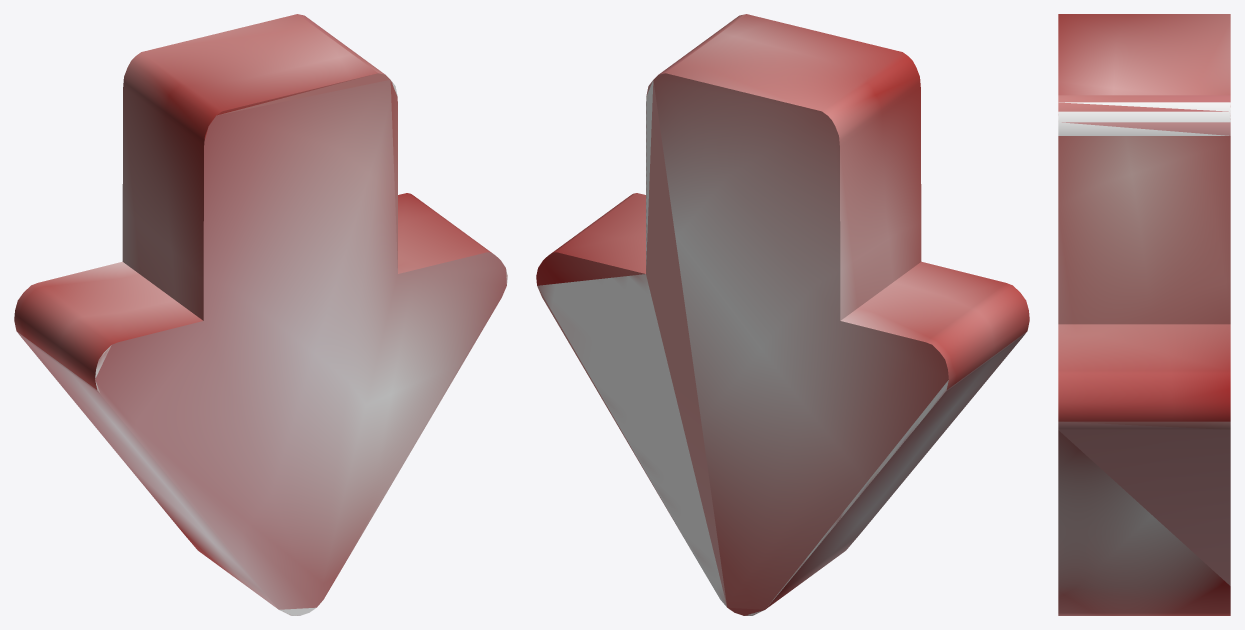
File: Arrow.fbx
3 renders of one model, left to right at view 1: azimuth 30°, elevation 25°; view 2: azimuth 150°, elevation 25°; view 3: azimuth 270°, elevation 25°, orthographic. The views are drawn at different scales.
Visible parts, largest first — view 1: node_id36; view 2: node_id36; view 3: node_id36.
Part boxes in pixels (x1,y1,x2,y2): node_id36: (14,14,507,615); node_id36: (536,14,1029,615); node_id36: (1058,14,1230,615).
Size of the model in its own units: 0.4223 by 0.512 by 0.1434.
1 material, 1 textured.
